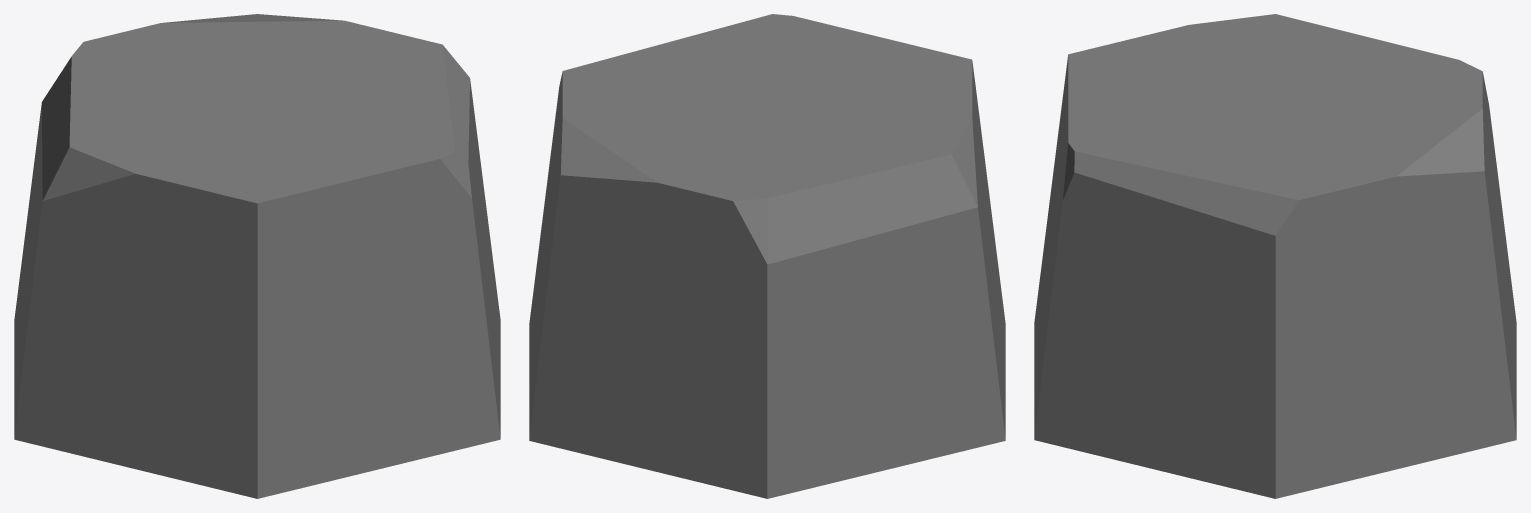
The model's file is rock9.fbx.
3 views of the same model, side by side, from view 1: azimuth 30°, elevation 25°; view 2: azimuth 150°, elevation 25°; view 3: azimuth 270°, elevation 25° (orthographic). The views are drawn at different scales.
Visible parts, largest first — view 1: rock6; view 2: rock6; view 3: rock6.
Boxes of the visible parts, left/top/right/bottom form: rock6: left=14, top=14, right=500, bottom=498; rock6: left=529, top=14, right=1005, bottom=498; rock6: left=1034, top=14, right=1516, bottom=498.
Bounding box in the file's own units: 1104 × 605 × 956.
